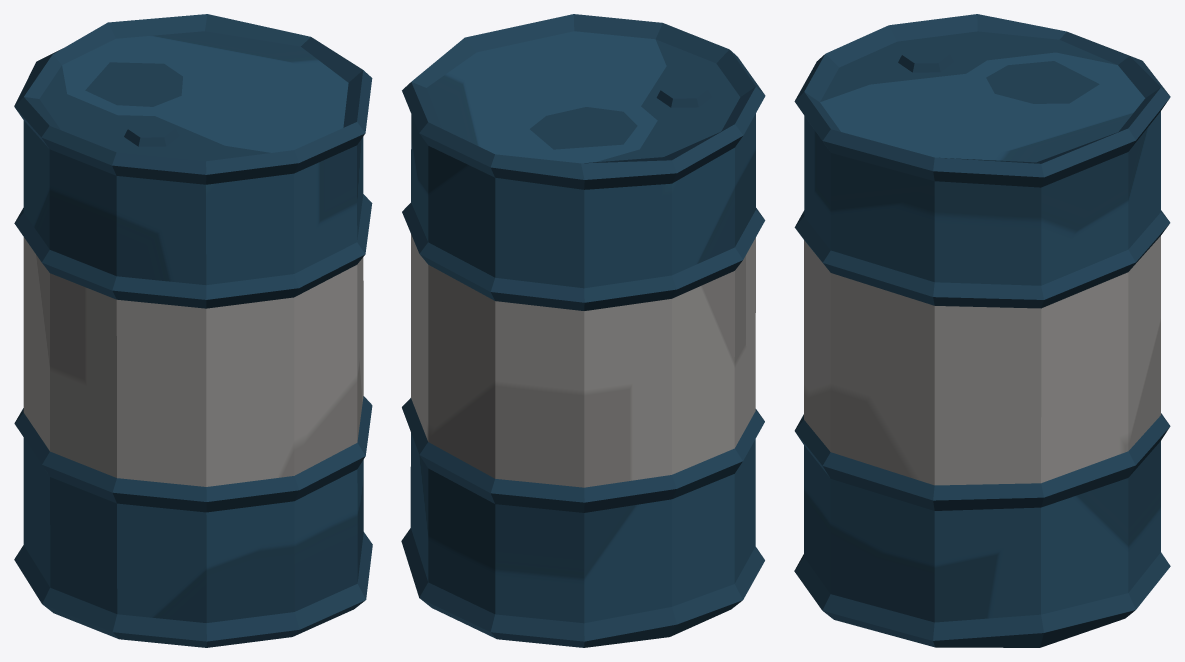
File: samurai_SM_Gen_Prop_Barrel_Metal_01.gltf
The picture shows the model from 3 angles, left to right: view 1: azimuth 30°, elevation 25°; view 2: azimuth 150°, elevation 25°; view 3: azimuth 270°, elevation 25°; orthographic projection.
Parts seen in each view (by area): view 1: SM_Gen_Prop_Barrel_Metal_01; view 2: SM_Gen_Prop_Barrel_Metal_01; view 3: SM_Gen_Prop_Barrel_Metal_01.
Boxes of the visible parts, x1,y1,x2,y2 form: SM_Gen_Prop_Barrel_Metal_01: (14, 14, 372, 647); SM_Gen_Prop_Barrel_Metal_01: (401, 14, 765, 647); SM_Gen_Prop_Barrel_Metal_01: (794, 14, 1170, 647).
Bounding box in the file's own units: 0.6949 × 1.05 × 0.7261.
1 material, 1 textured.
